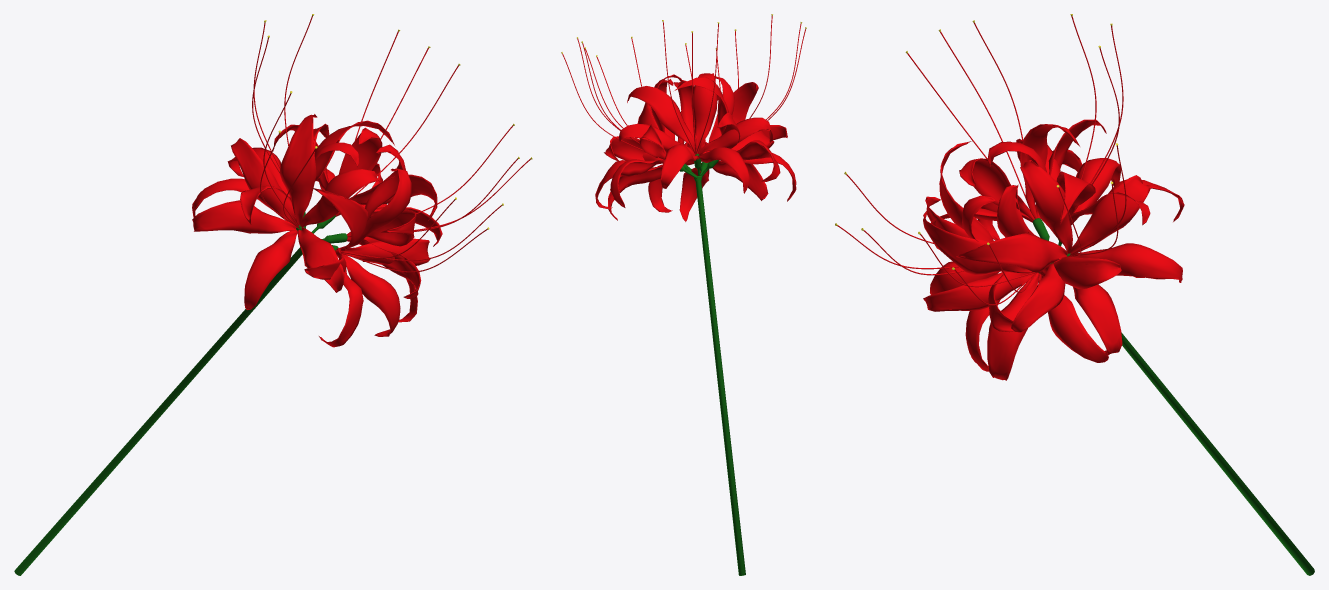
Rendered from Lycoris.fbx.
3 views of the same model, side by side, from view 1: azimuth 30°, elevation 25°; view 2: azimuth 150°, elevation 25°; view 3: azimuth 270°, elevation 25° (orthographic). The views are drawn at different scales.
Parts seen in each view (by area): view 1: Cylinder.002; view 2: Cylinder.002; view 3: Cylinder.002.
Part boxes in pixels (bbox=[...]): Cylinder.002: bbox=[14, 14, 532, 575]; Cylinder.002: bbox=[561, 14, 806, 575]; Cylinder.002: bbox=[835, 14, 1314, 575].
Bounding box in the file's own units: 87.71 × 139 × 95.19.
